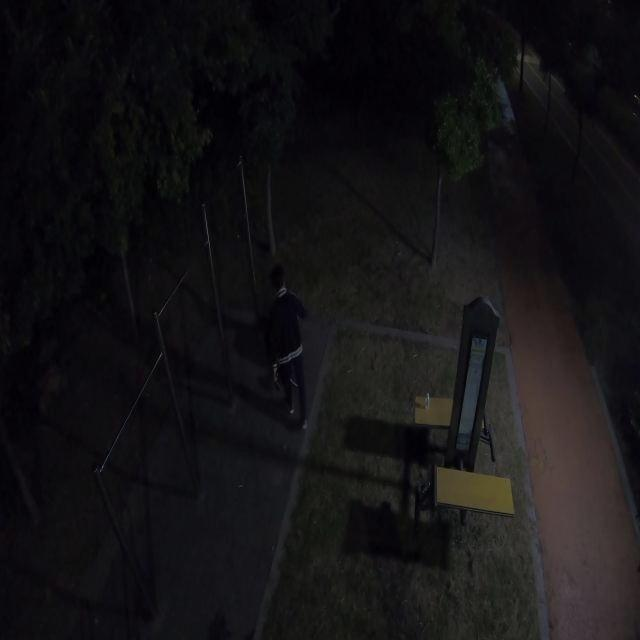fight: (261, 265, 313, 435)
